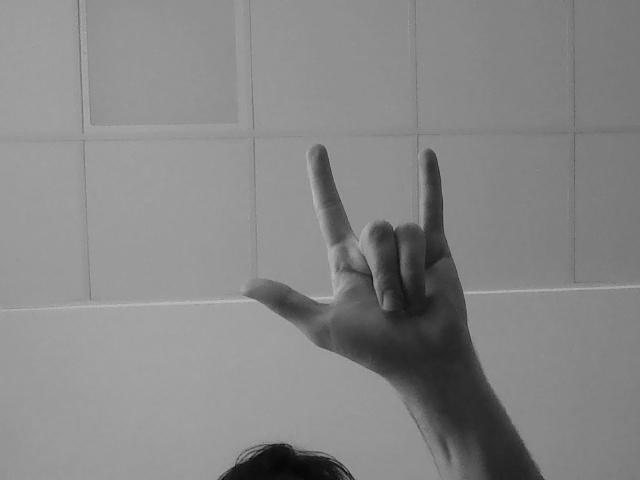I_Love_You: (234, 123, 534, 389)
